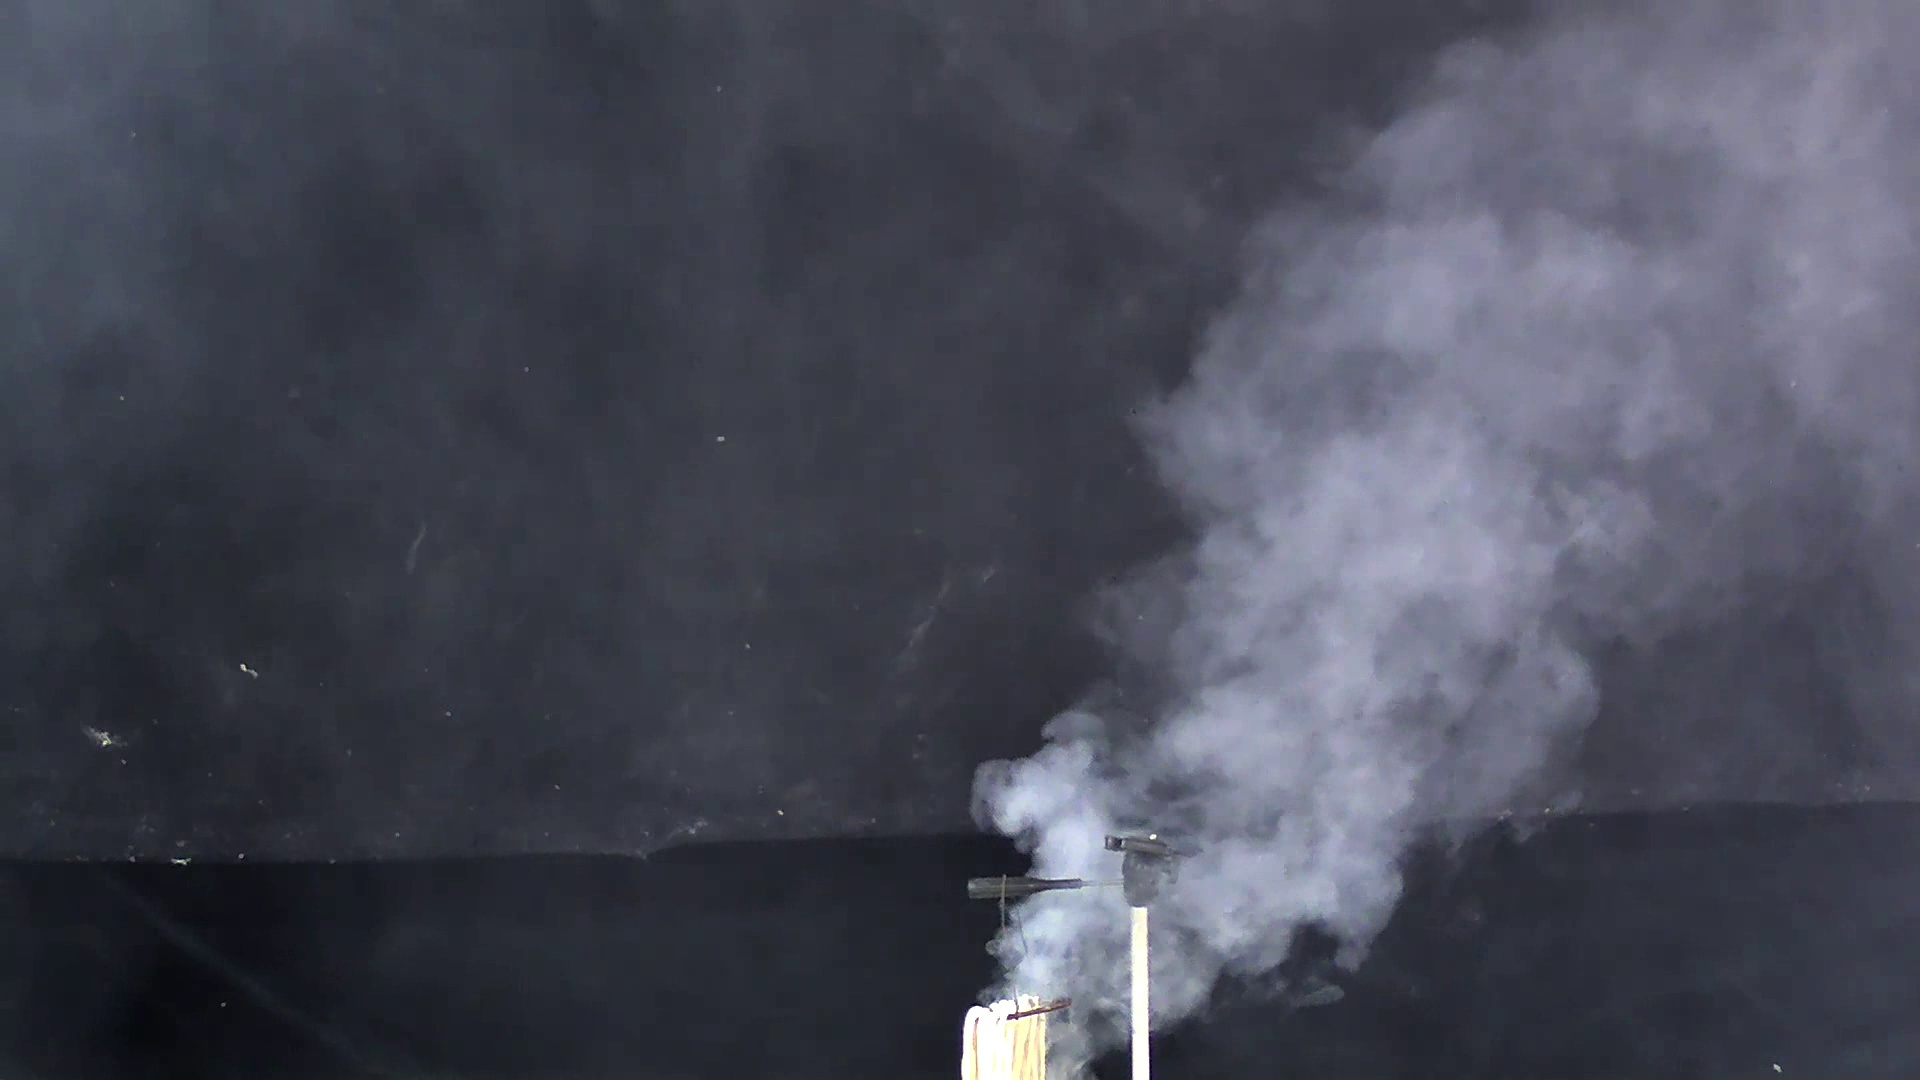smoke: (948, 78, 1789, 982)
